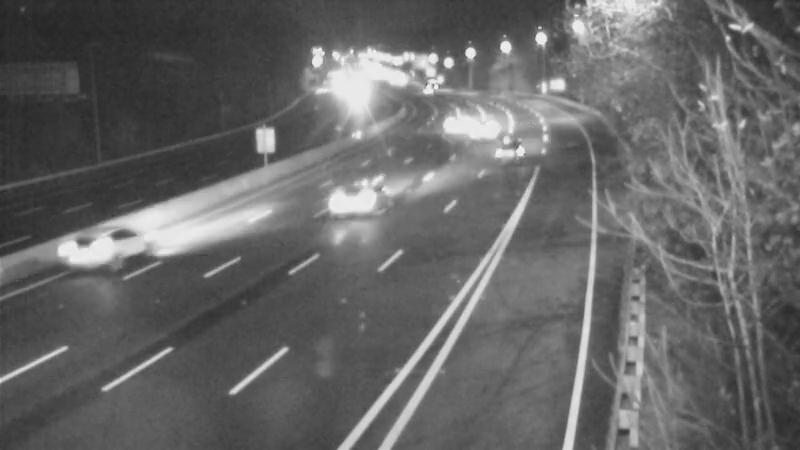vehicle: (471, 114, 551, 194), (326, 158, 406, 238), (49, 210, 129, 290), (428, 92, 478, 142), (464, 104, 514, 154)
